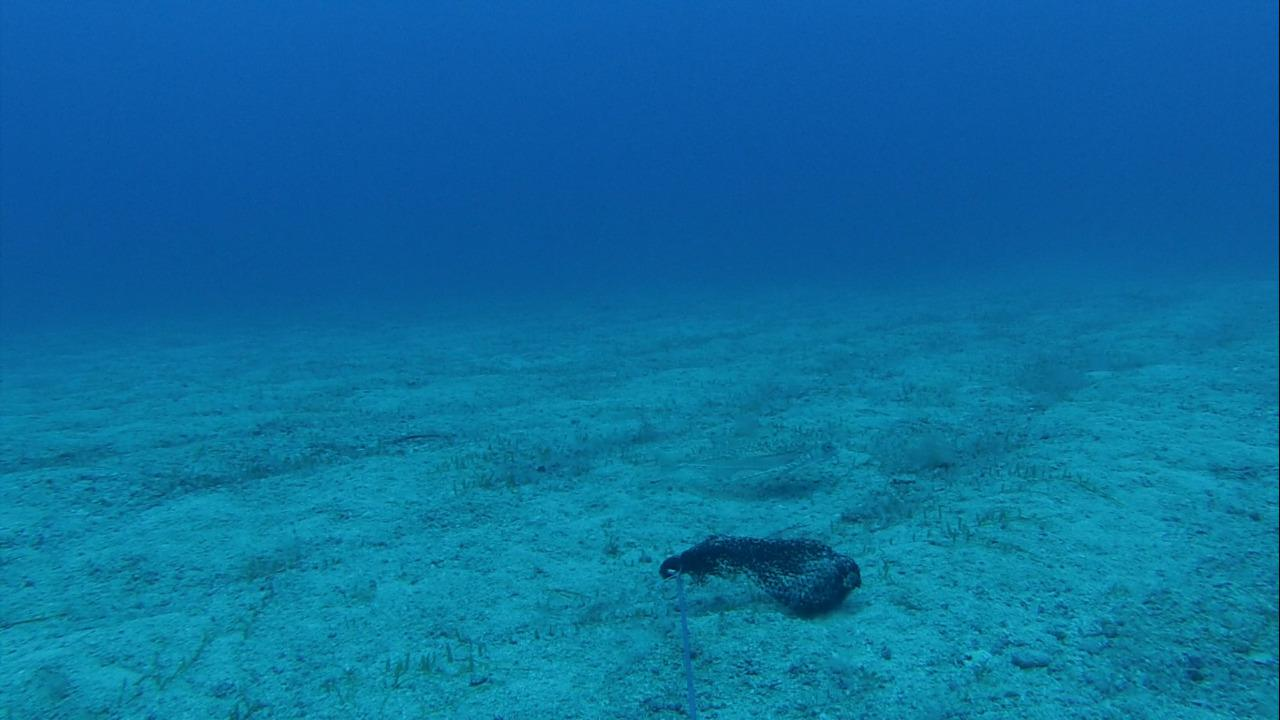dactylopterus: (648, 428, 847, 497)
